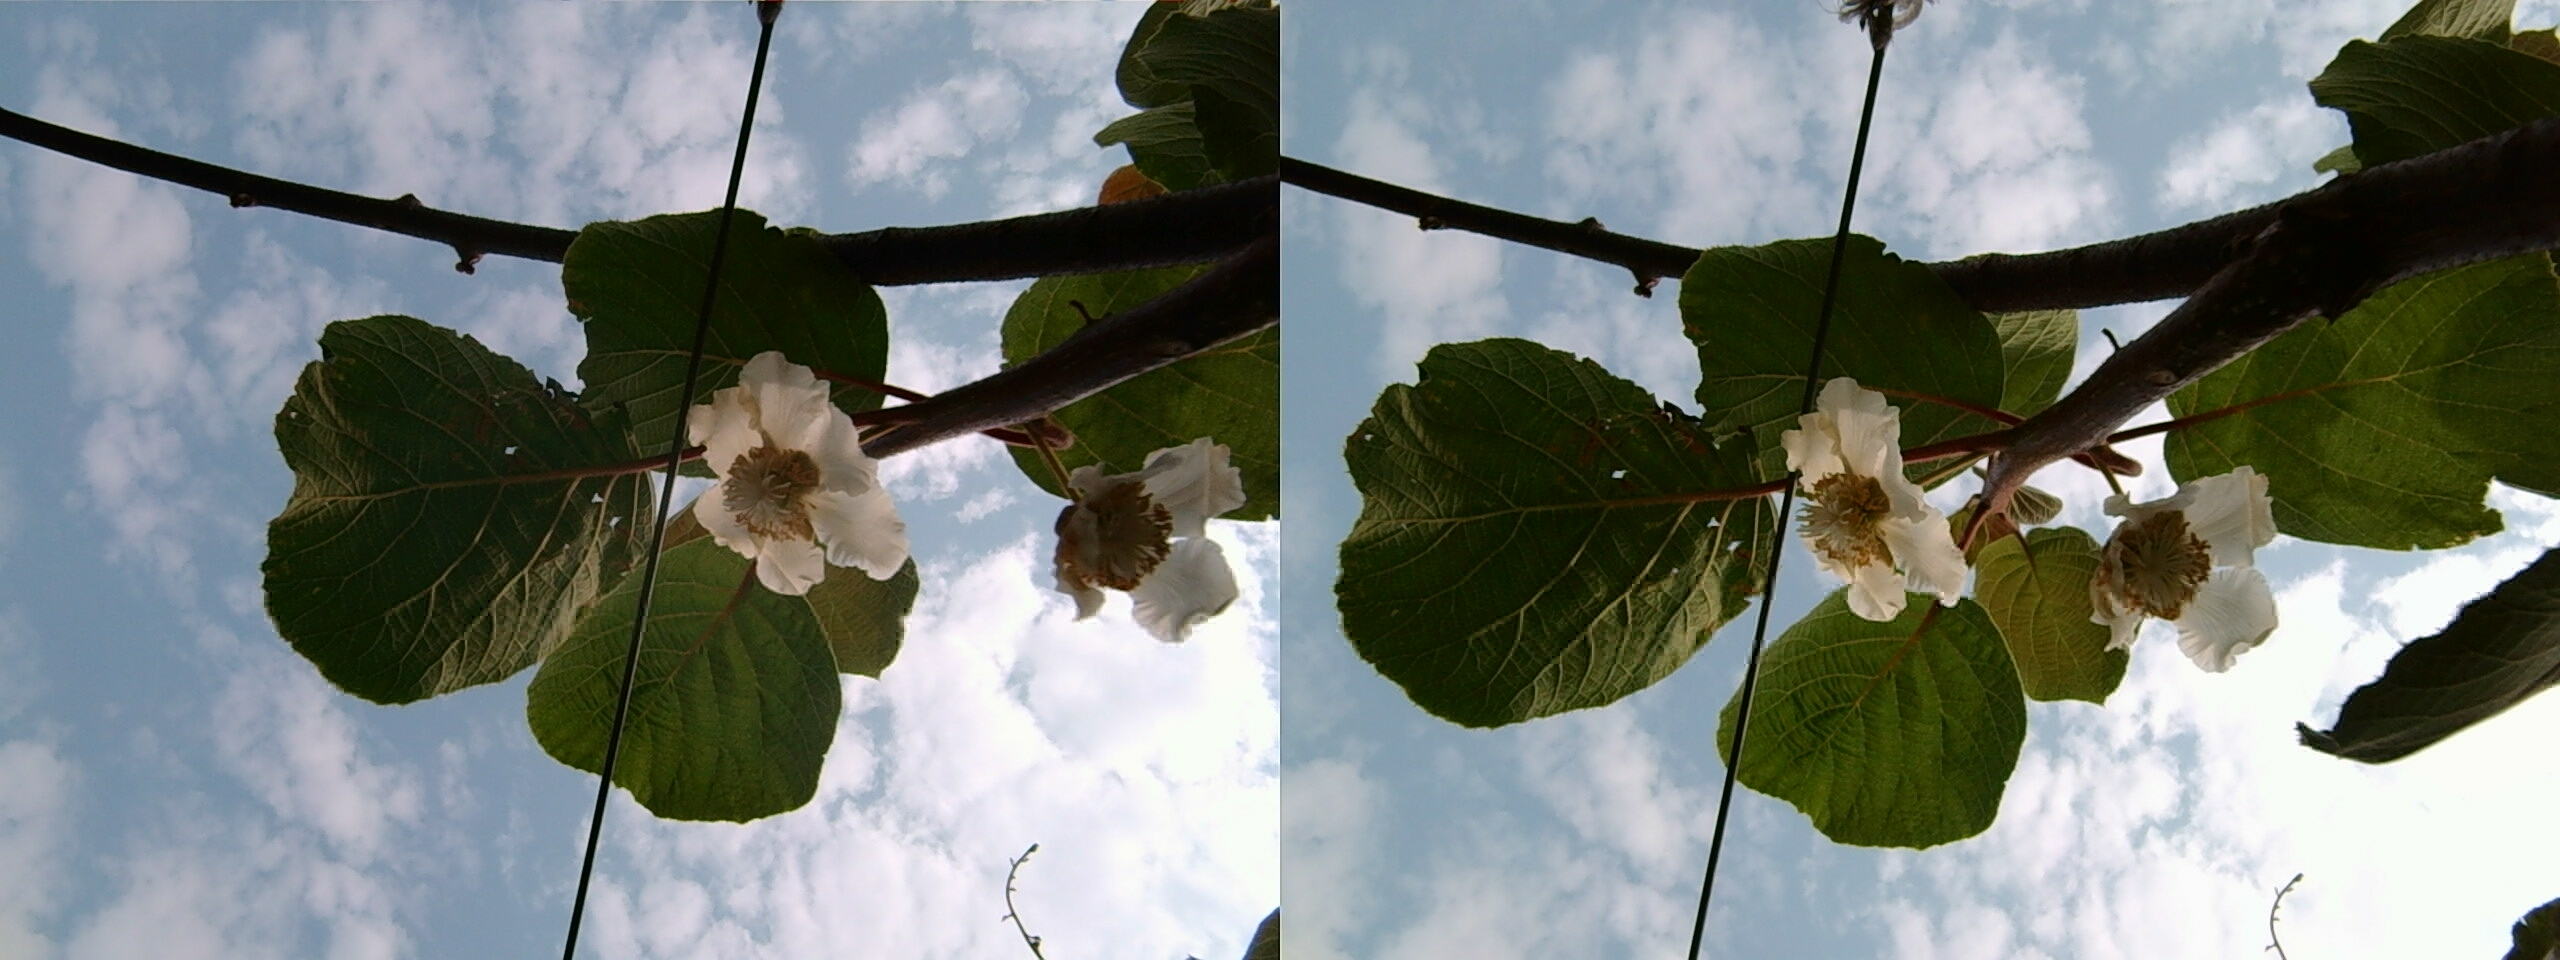flower: (669, 353, 901, 593), (1771, 389, 1964, 612), (2082, 459, 2273, 671), (1038, 434, 1241, 630)
